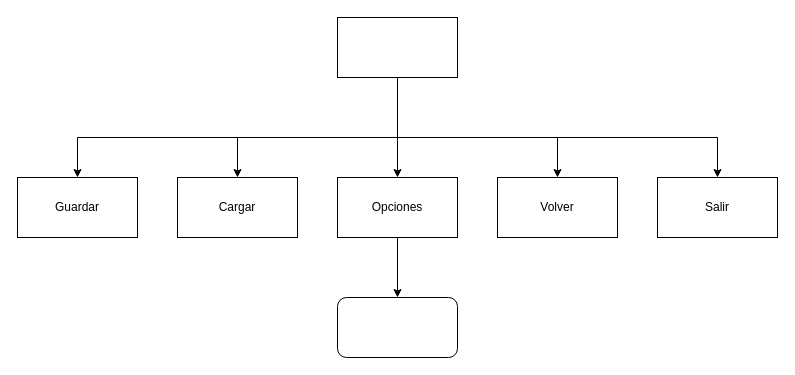
Image size: 795x375. Some labels were removed from this diagram. Here are the shapes that lost their labels. From the top down, the centre of each, then its label:
At point 397,47: "Menú Pausa".
At point 397,327: "Menú opciones".
